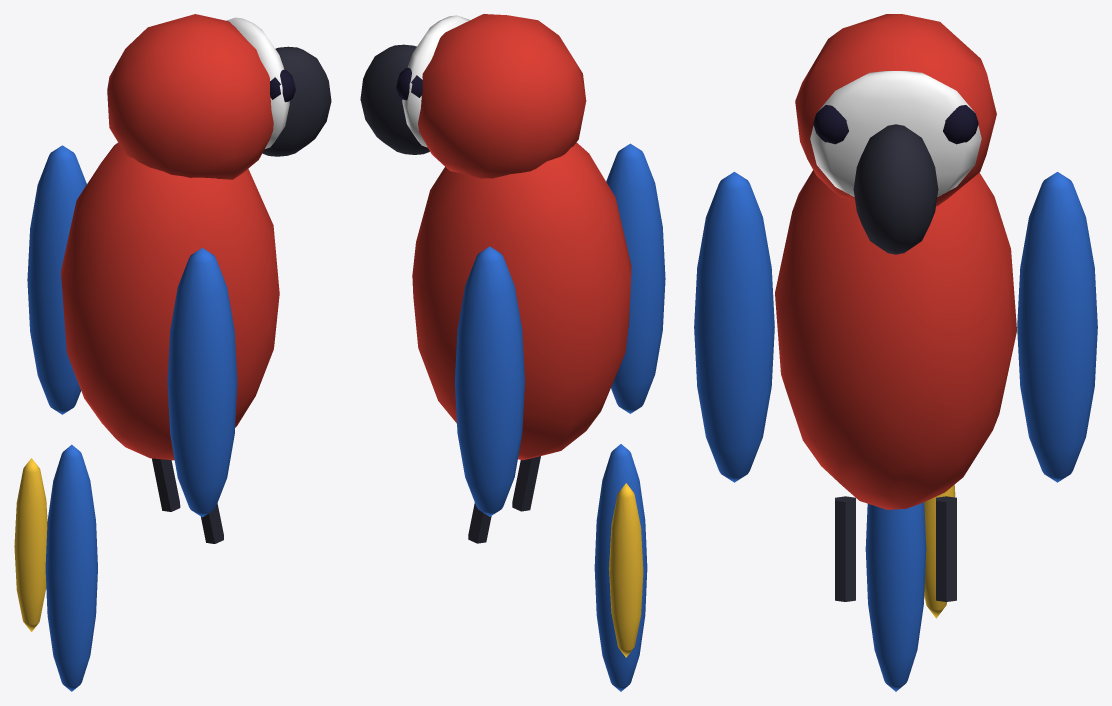
The model's file is papousek.glb.
3 views of the same model, side by side, from view 1: azimuth 30°, elevation 25°; view 2: azimuth 150°, elevation 25°; view 3: azimuth 270°, elevation 25° (orthographic). The views are drawn at different scales.
Parts seen in each view (by area): view 1: Sphere, Sphere.002, Sphere.007, Sphere.009, Sphere.008, Sphere.010, Sphere.006, Sphere.003, Cylinder.001, Cylinder, Sphere.004; view 2: Sphere, Sphere.002, Sphere.008, Sphere.007, Sphere.009, Sphere.010, Sphere.006, Sphere.003, Cylinder, Cylinder.001, Sphere.005; view 3: Sphere, Sphere.007, Sphere.008, Sphere.002, Sphere.003, Sphere.009, Sphere.006, Cylinder, Cylinder.001, Sphere.010, Sphere.004, Sphere.005.
Part boxes in pixels (bbox=[...]): Sphere: bbox=[61, 143, 279, 460]; Sphere.002: bbox=[107, 14, 273, 179]; Sphere.007: bbox=[167, 248, 237, 517]; Sphere.009: bbox=[45, 444, 97, 691]; Sphere.008: bbox=[27, 145, 86, 414]; Sphere.010: bbox=[14, 458, 47, 631]; Sphere.006: bbox=[262, 46, 331, 156]; Sphere.003: bbox=[226, 17, 289, 148]; Cylinder.001: bbox=[152, 458, 180, 511]; Cylinder: bbox=[201, 503, 223, 543]; Sphere.004: bbox=[270, 69, 295, 102]; Sphere: bbox=[412, 142, 631, 460]; Sphere.002: bbox=[418, 14, 586, 178]; Sphere.008: bbox=[454, 246, 524, 516]; Sphere.007: bbox=[606, 143, 665, 413]; Sphere.009: bbox=[594, 444, 647, 691]; Sphere.010: bbox=[609, 483, 643, 657]; Sphere.006: bbox=[360, 44, 429, 154]; Sphere.003: bbox=[402, 15, 469, 147]; Cylinder: bbox=[512, 456, 540, 511]; Cylinder.001: bbox=[468, 502, 491, 543]; Sphere.005: bbox=[396, 67, 422, 100]; Sphere: bbox=[775, 170, 1016, 509]; Sphere.007: bbox=[694, 172, 774, 482]; Sphere.008: bbox=[1017, 172, 1097, 482]; Sphere.002: bbox=[795, 14, 996, 206]; Sphere.003: bbox=[810, 71, 981, 196]; Sphere.009: bbox=[865, 502, 926, 691]; Sphere.006: bbox=[853, 124, 938, 254]; Cylinder: bbox=[835, 496, 855, 601]; Cylinder.001: bbox=[936, 496, 956, 601]; Sphere.010: bbox=[924, 485, 955, 618]; Sphere.004: bbox=[813, 105, 848, 144]; Sphere.005: bbox=[943, 105, 978, 144].
Bounding box in the file's own units: 0.3876 × 0.806 × 0.4.
